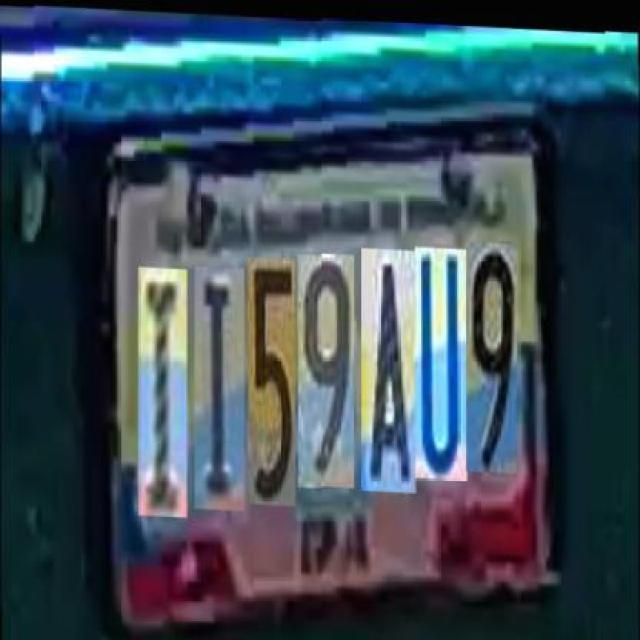5: (248, 253, 295, 501)
9: (298, 249, 354, 485), (466, 236, 517, 469)
a: (361, 244, 416, 488)
i: (138, 263, 188, 514), (193, 262, 244, 507)
u: (415, 242, 467, 476)
